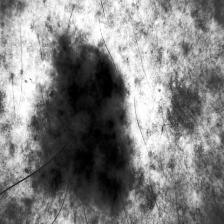Benign Marking or Mole: (36, 38, 132, 204)
